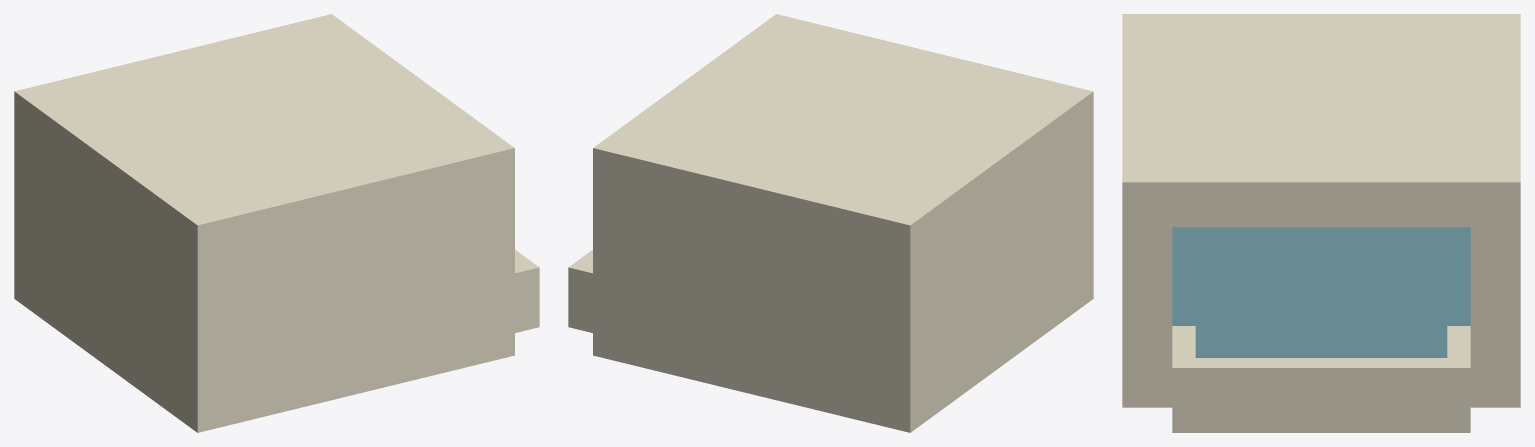
Rendered from building_041.fbx.
3 views of the same model, side by side, from view 1: azimuth 30°, elevation 25°; view 2: azimuth 150°, elevation 25°; view 3: azimuth 270°, elevation 25° (orthographic). The views are drawn at different scales.
Visible parts, largest first — view 1: building_041; view 2: building_041; view 3: building_041.
Boxes of the visible parts, x1,y1,x2,y2 form: building_041: (14, 14, 539, 432); building_041: (568, 14, 1093, 432); building_041: (1122, 14, 1520, 432).
Size of the model in its own units: 11.5 by 6.25 by 10.
